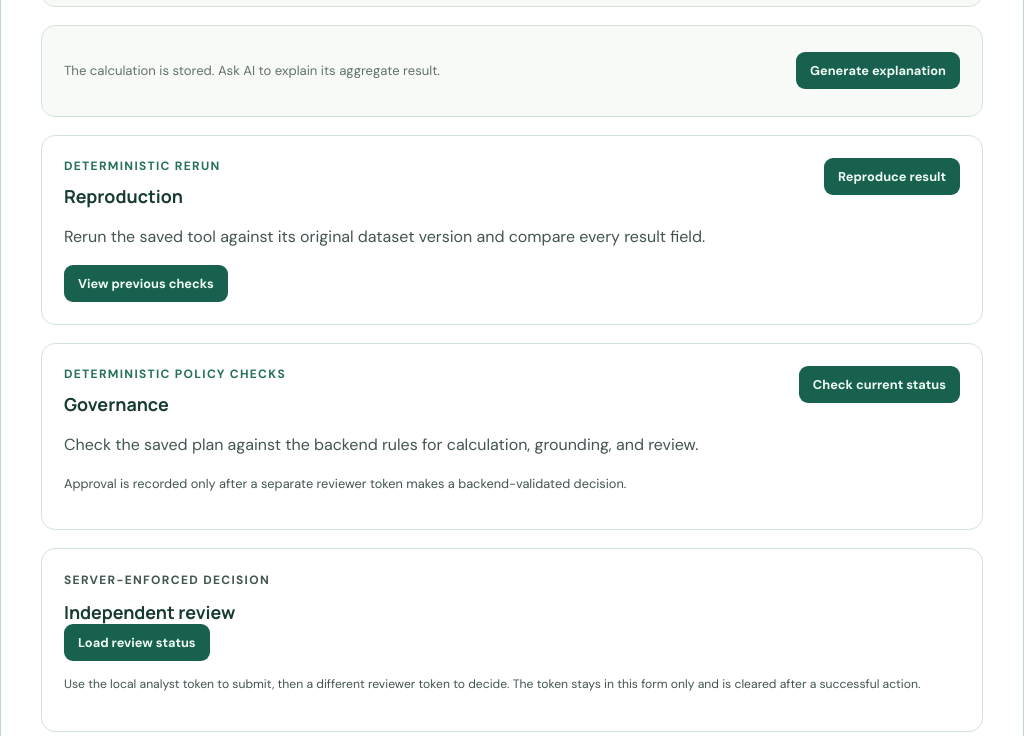
AnalysisWorkspace › shows backend governance checks and refreshes them after interpretation
This screenshot has width=1024, height=736.
(page scrolled)
Click the button "Check current status".
click(879, 385)  # box [799,366,960,403]
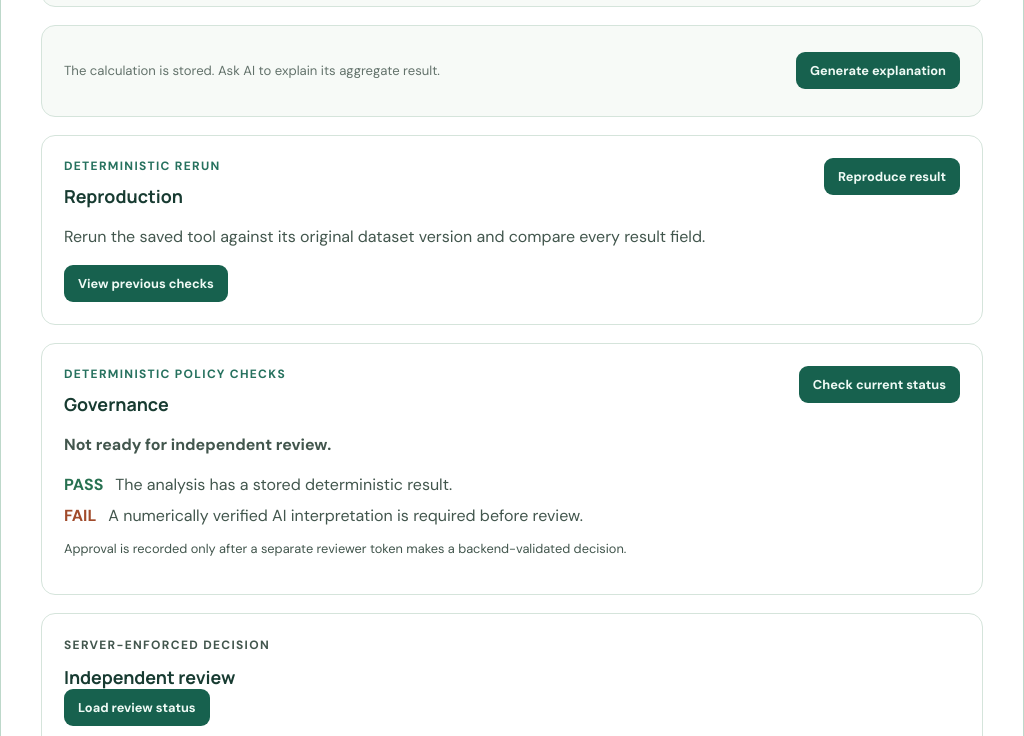
Expected: the text "Not ready for independent review." is shown, [64,434,331,455]
Expected: the text "A numerically verified AI interpretation is required before review." is shown, [108,505,583,526]
Click the button "Generate explanation".
click(878, 71)  # box [796,52,960,89]
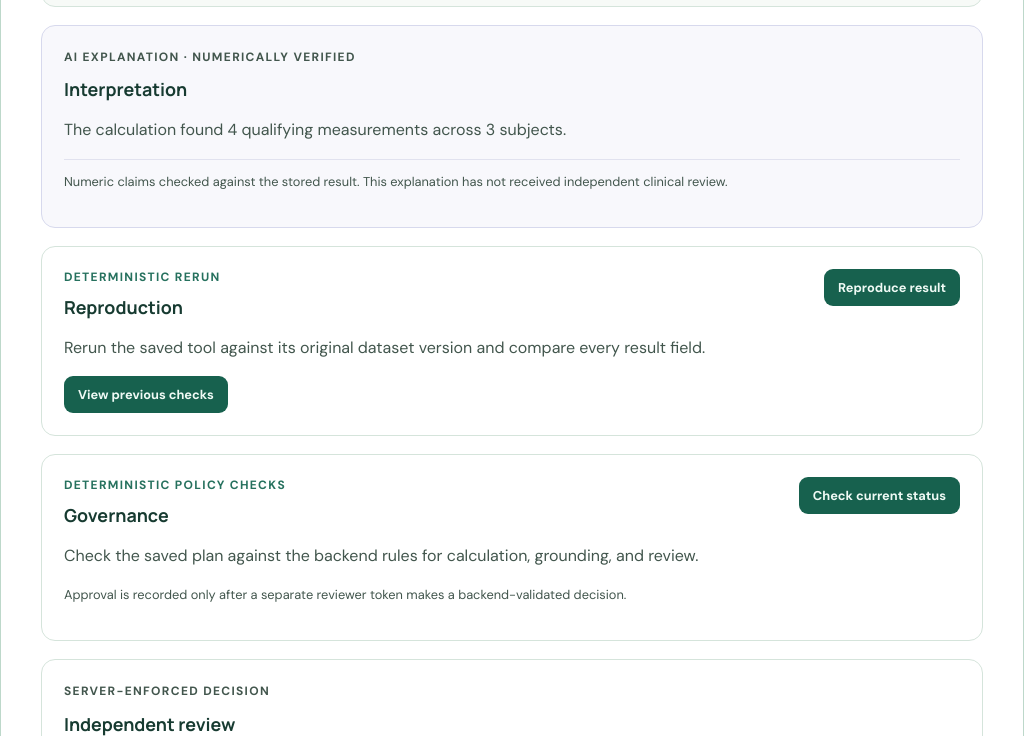
Expected: the text "The calculation found 4 qualifying measurements across 3 subjects." is shown, [64,119,566,140]
Expected: the text "Not ready for independent review." is gone
Click the button "Check current status".
click(879, 496)  # box [799,478,960,514]
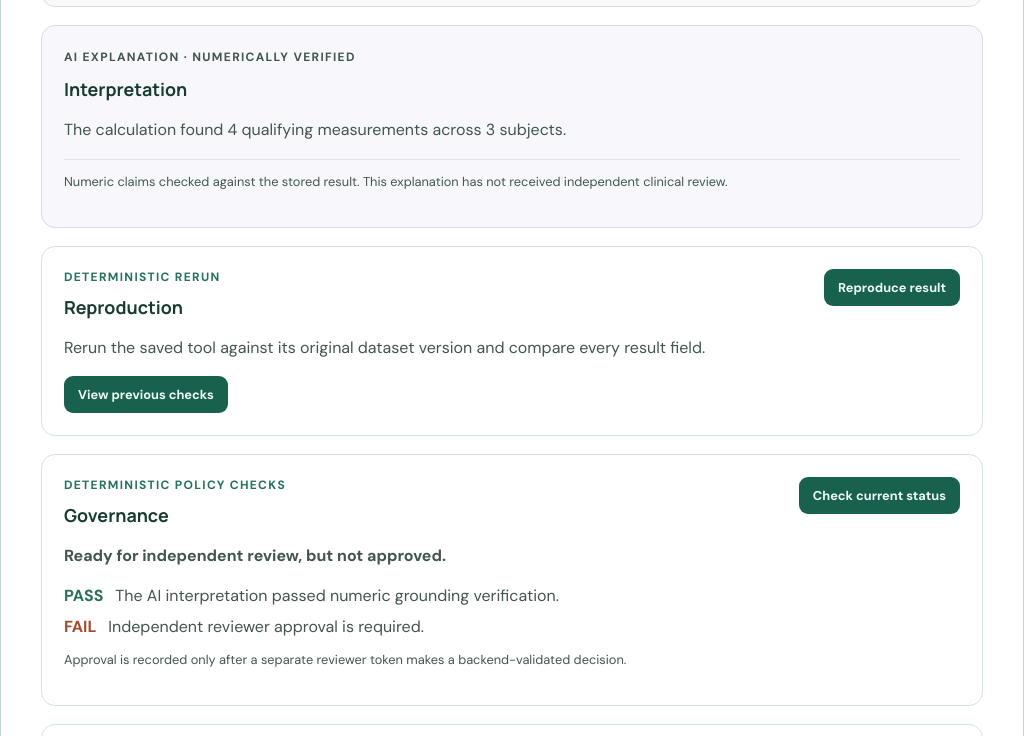
Expected: the text "Ready for independent review, but not approved." is shown, [64,546,446,566]
Expected: the text "Independent reviewer approval is required." is shown, [108,616,424,637]
